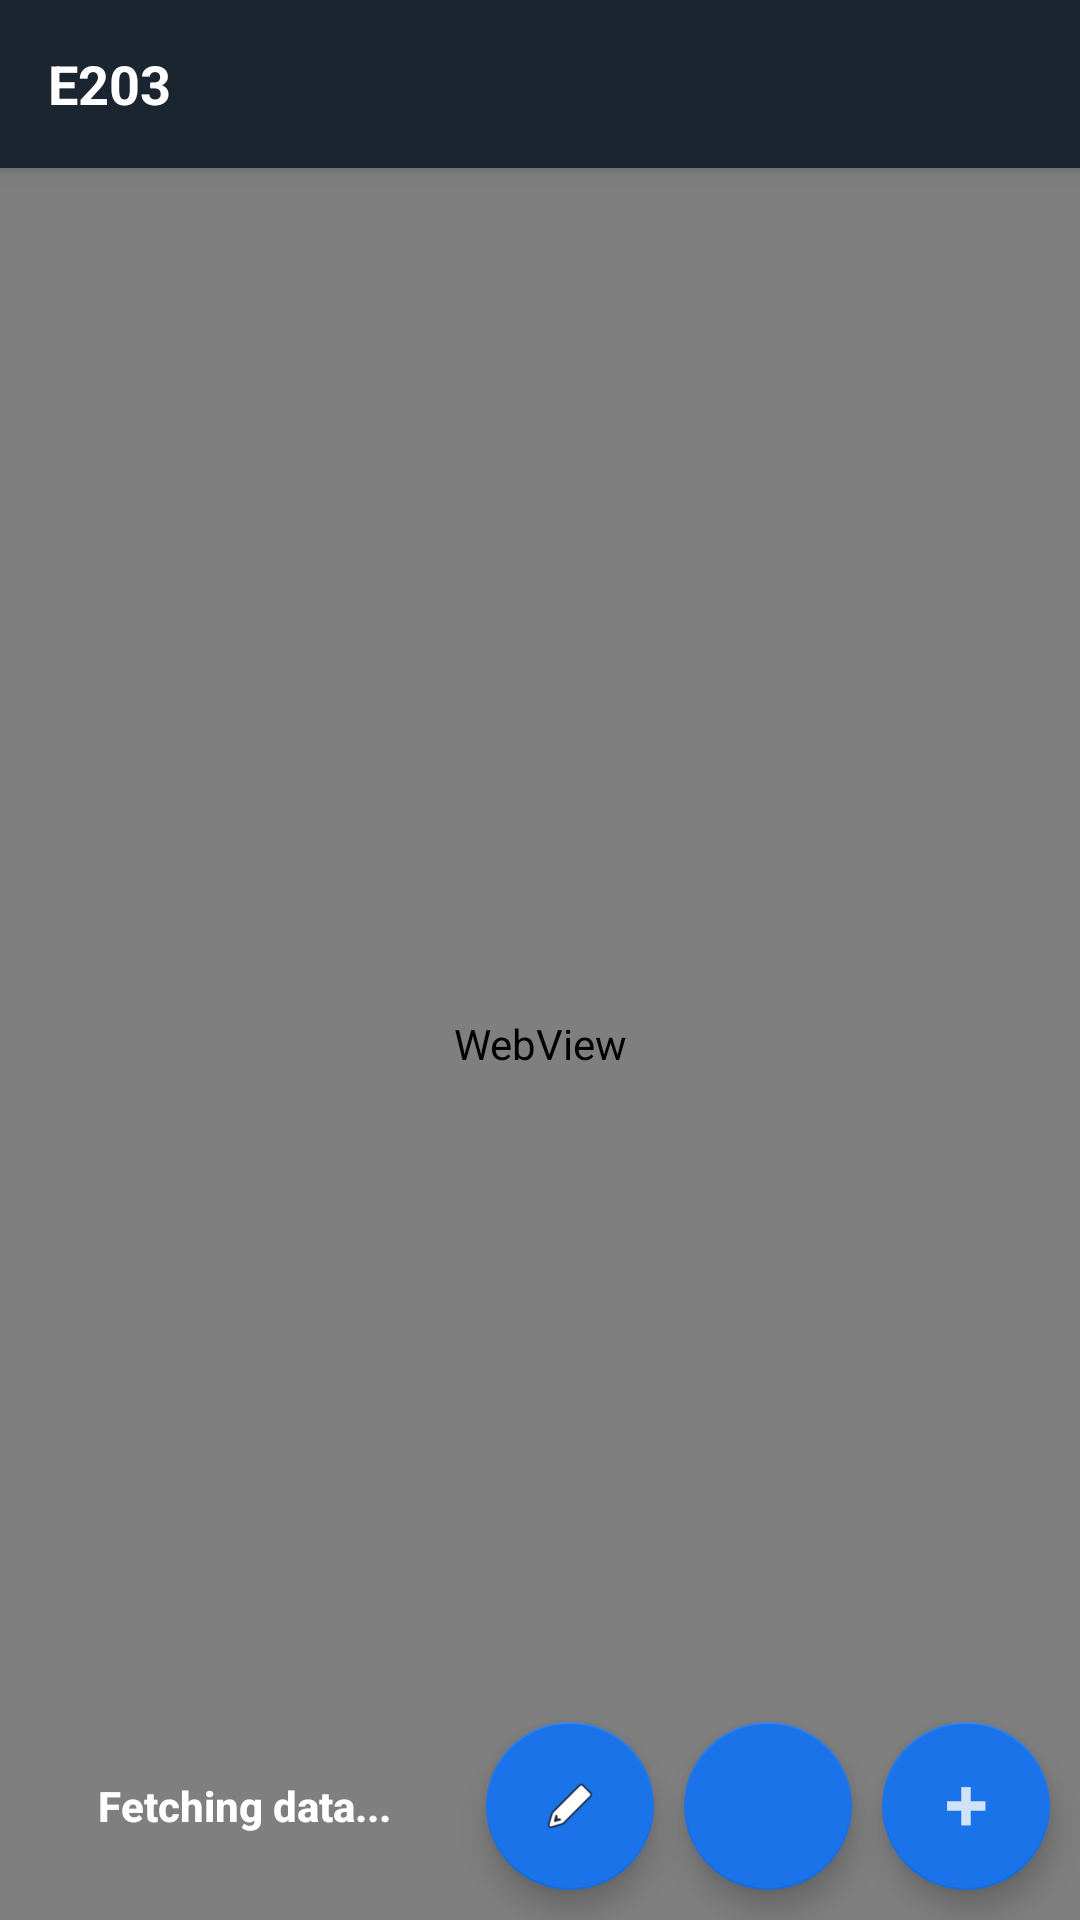

Icons on this 1080px×1920px Android screen, each with its box as (x1, y1, x2, y2):
edit: (486, 1722, 654, 1890)
